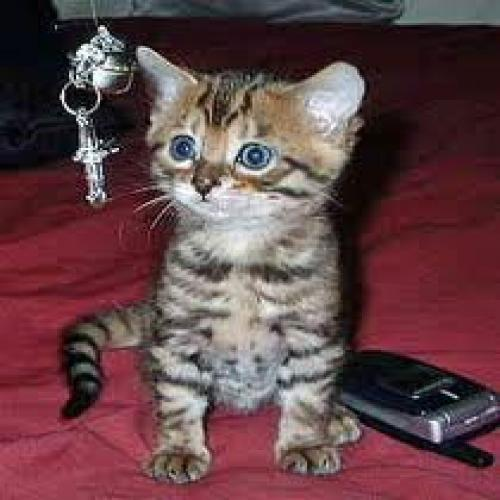bengal: (119, 36, 379, 240)
